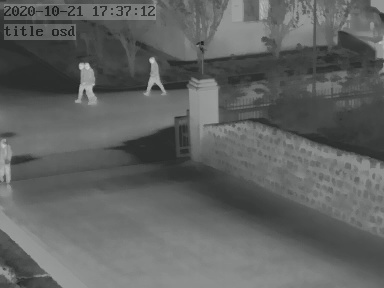person: (144, 53, 165, 93), (79, 59, 98, 103), (1, 138, 15, 185)
